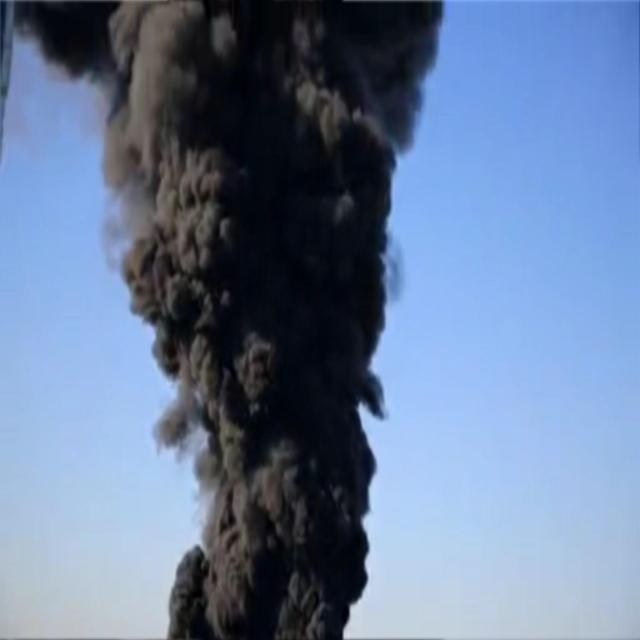Smoke: (14, 1, 445, 640)
